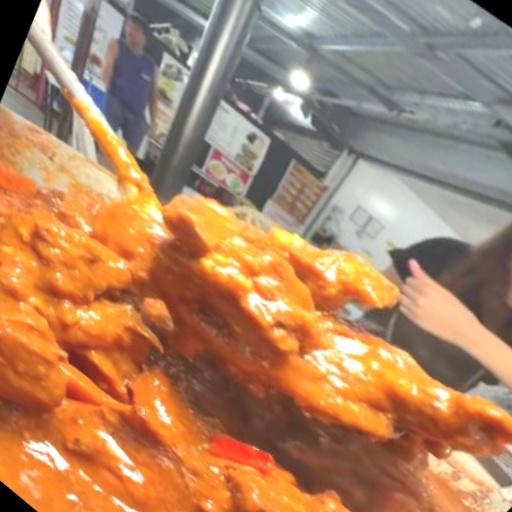pork caldereta: (0, 172, 511, 511)
